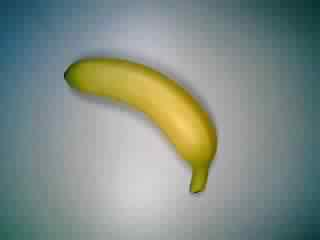banana: (58, 54, 224, 197)
